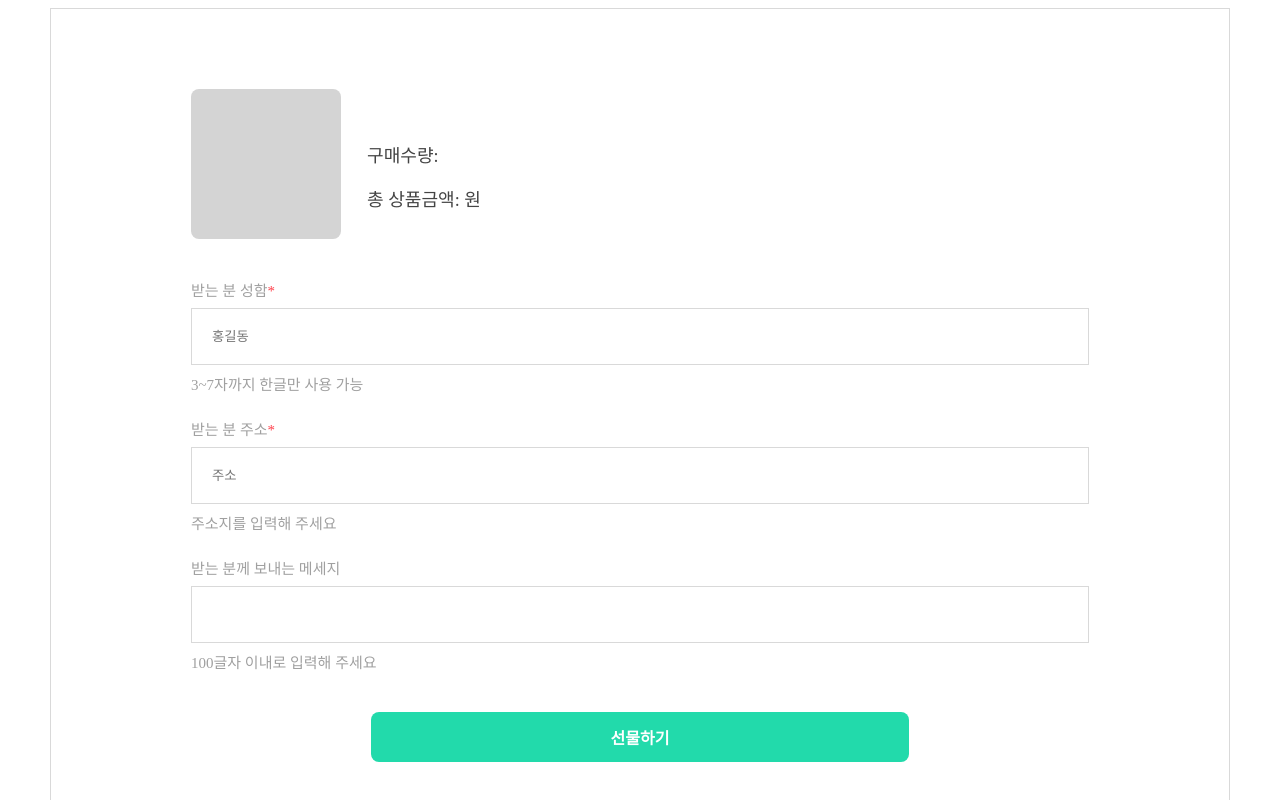
Test case: OrderForm › 필수 입력란에 공백이 있어서 주문에 실패했을 때 › 에러 메세지를 반환한다
What coordinates should you click on to do the following:
click the button "선물하기"
I would click on:
 (640, 737)
Its box is [371,712,909,762].
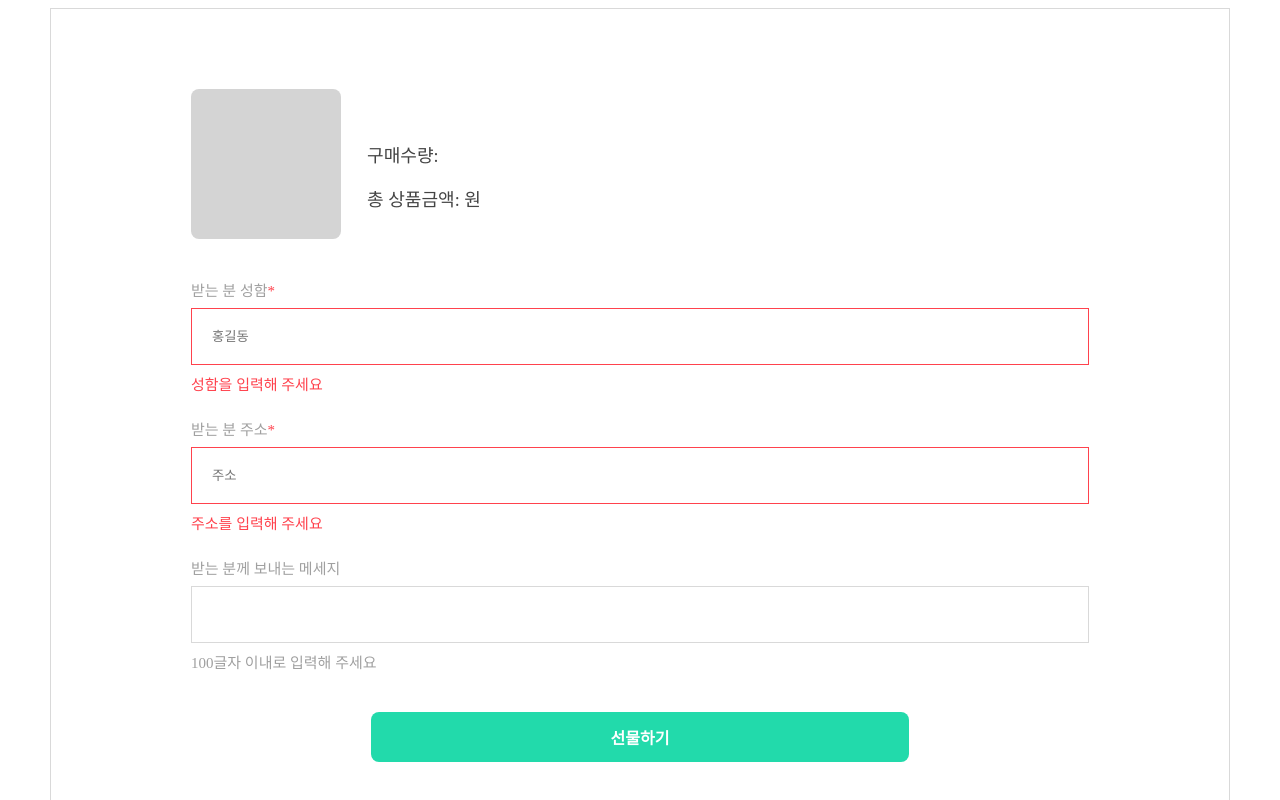
Expected: the text "주소를 입력해 주세요" is shown, [191,516,323,532]
Expected: the text "성함을 입력해 주세요" is shown, [191,377,323,393]
